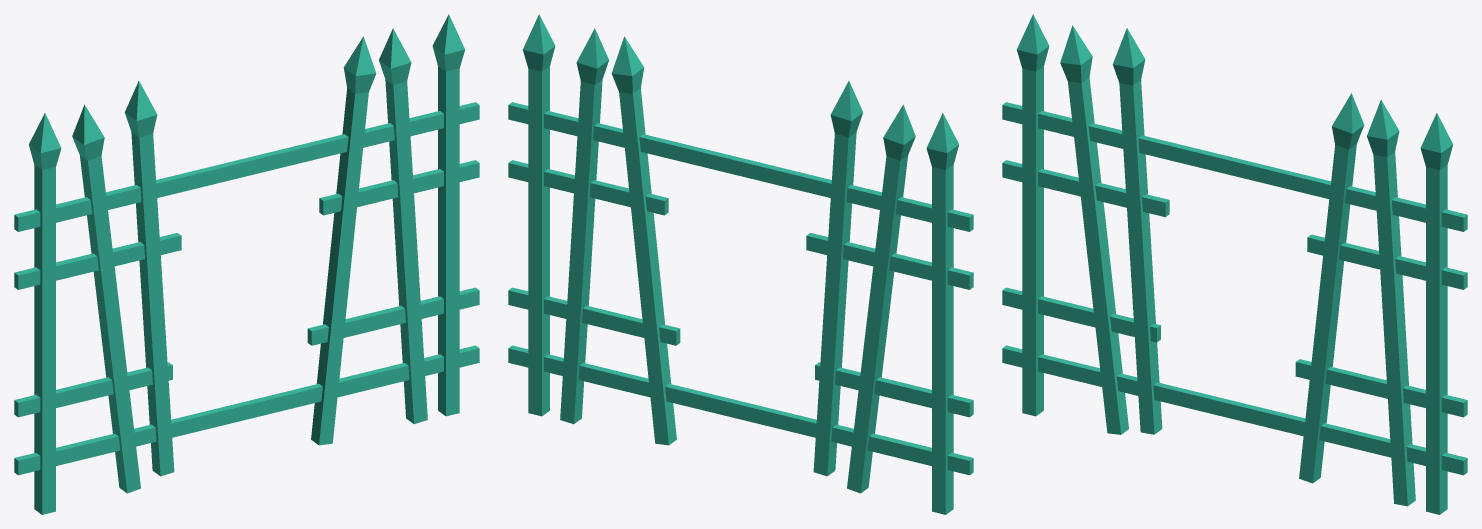
File: ironFenceDamaged.obj
The picture shows the model from 3 angles, left to right: view 1: azimuth 30°, elevation 25°; view 2: azimuth 150°, elevation 25°; view 3: azimuth 330°, elevation 25°; orthographic projection.
Parts seen in each view (by area): view 1: ironFenceDamaged; view 2: ironFenceDamaged; view 3: ironFenceDamaged.
Boxes of the visible parts, x1,y1,x2,y2 form: ironFenceDamaged: (14,14,479,514); ironFenceDamaged: (508,14,973,514); ironFenceDamaged: (1002,14,1467,514).
Bounding box in the file's own units: 1 × 0.8432 × 0.045.
